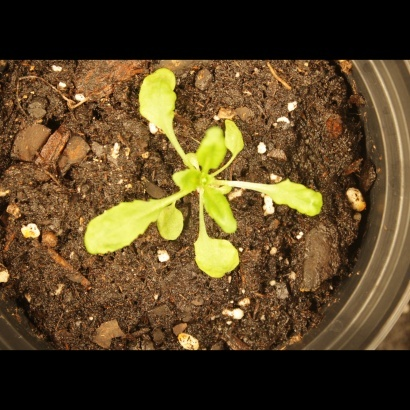leaf: (77, 201, 158, 258), (131, 63, 187, 137), (259, 171, 326, 220), (190, 236, 245, 287), (206, 187, 237, 236), (197, 123, 228, 169), (156, 203, 187, 240), (222, 117, 250, 157), (166, 167, 205, 193)
